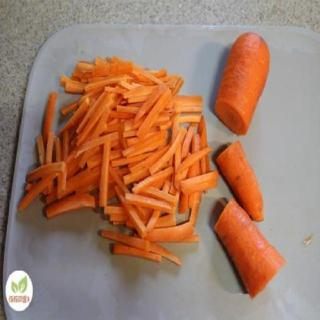carrot: (212, 197, 286, 305), (211, 29, 271, 138), (214, 142, 266, 220)
